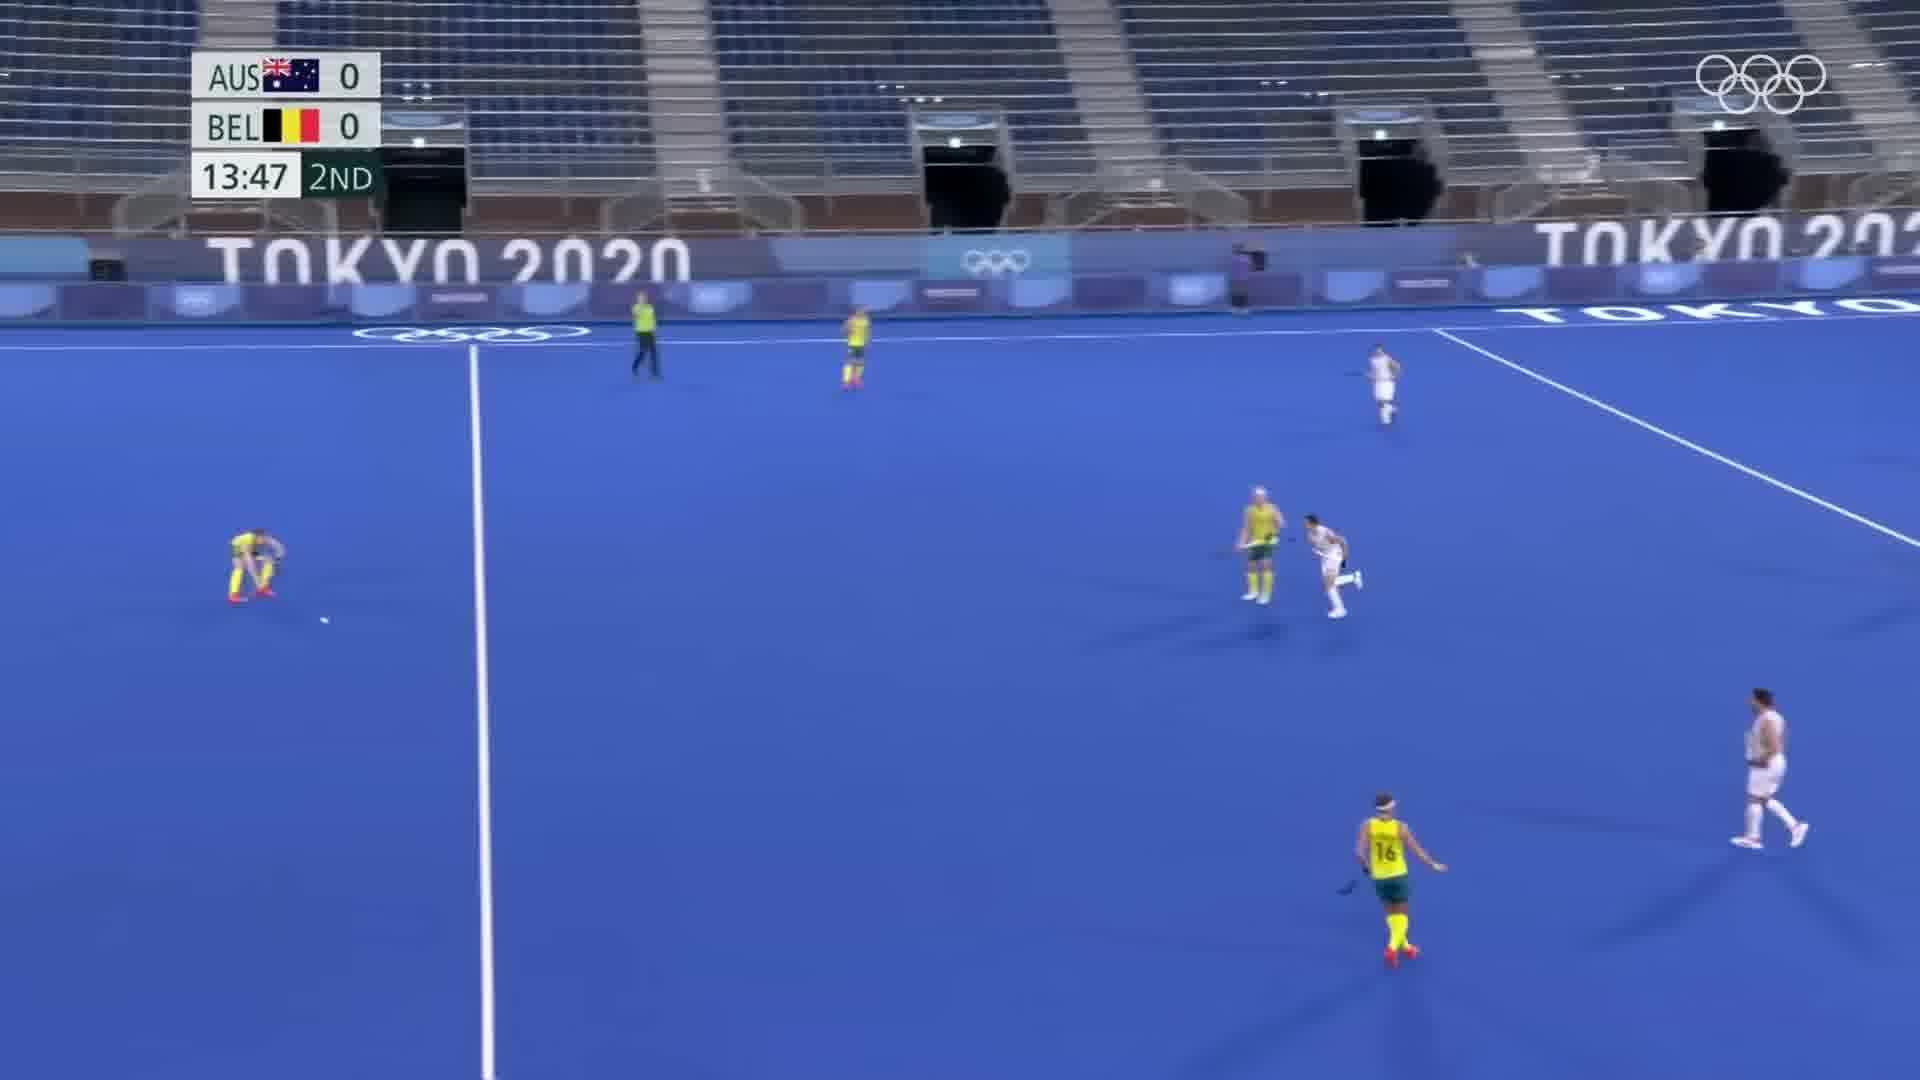ball: (314, 607, 336, 632)
